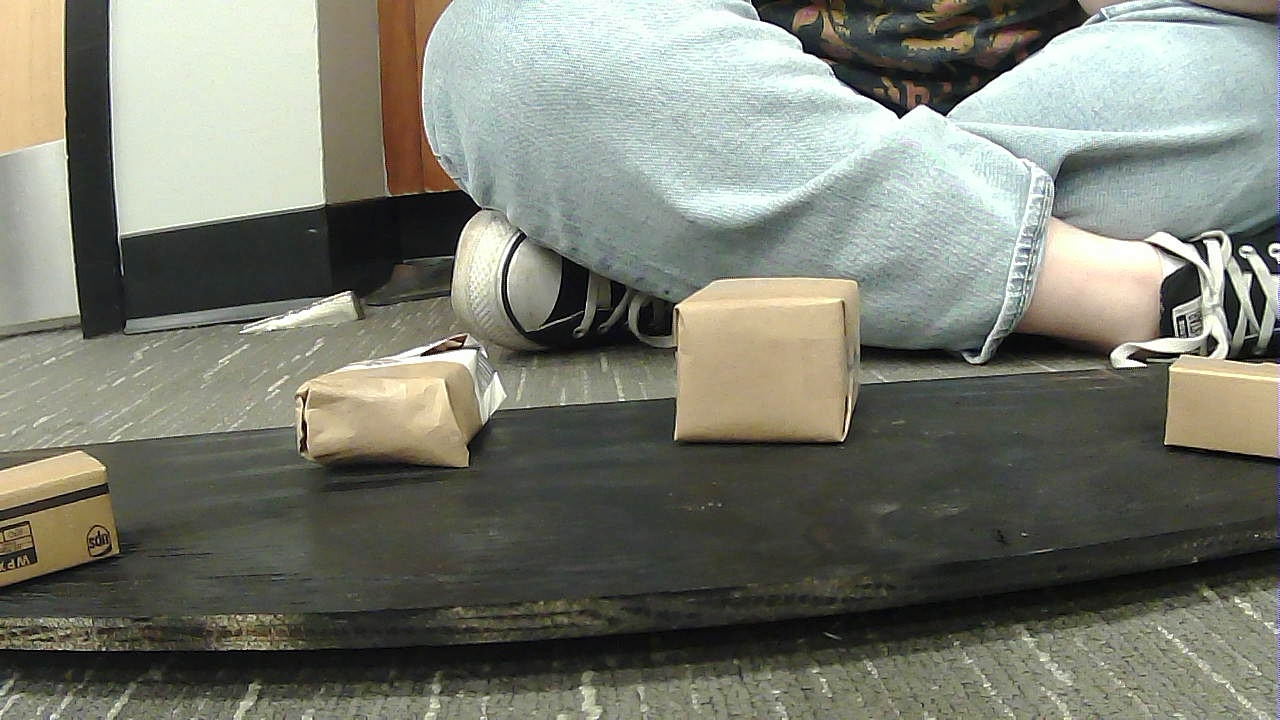package: (655, 265, 920, 475), (258, 328, 542, 479), (3, 438, 142, 584), (1129, 340, 1276, 468)
